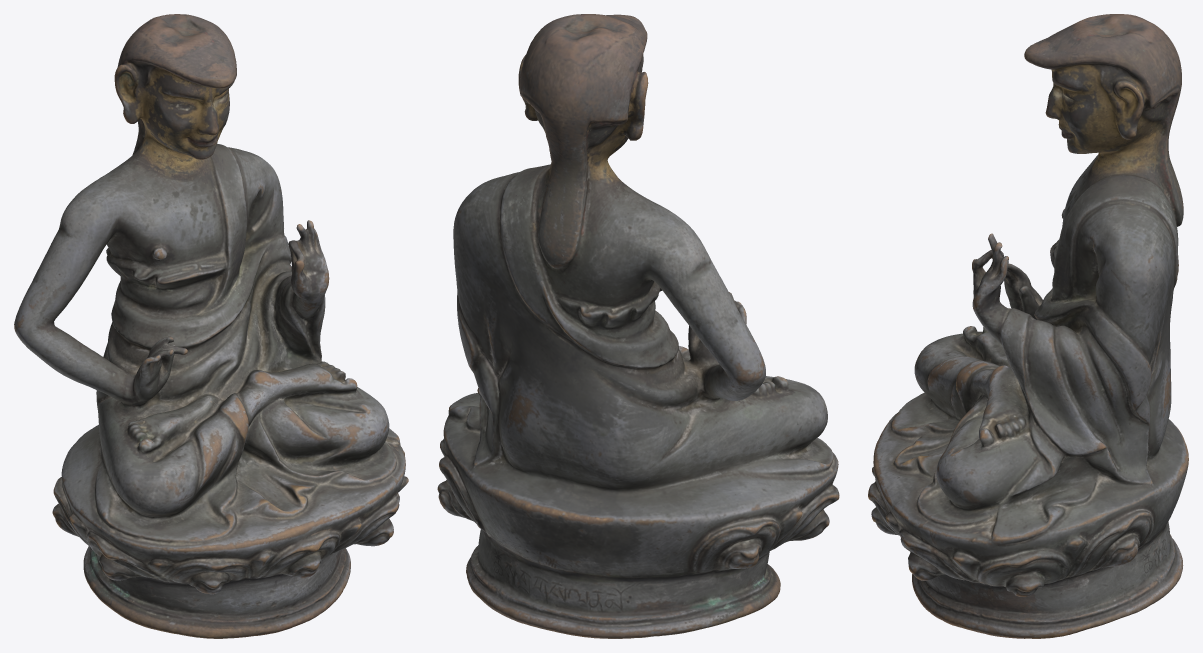
The model's file is statue.glb.
3 renders of one model, left to right at view 1: azimuth 30°, elevation 25°; view 2: azimuth 150°, elevation 25°; view 3: azimuth 270°, elevation 25°, orthographic. The views are drawn at different scales.
Visible parts, largest first — view 1: Object_2, Object_3; view 2: Object_2, Object_3; view 3: Object_2, Object_3.
Boxes of the visible parts, left/top/right/bottom form: Object_2: left=14, top=14, right=408, bottom=638; Object_3: left=99, top=166, right=405, bottom=457; Object_2: left=437, top=14, right=839, bottom=638; Object_3: left=439, top=191, right=681, bottom=502; Object_2: left=868, top=14, right=1188, bottom=638; Object_3: left=960, top=179, right=1183, bottom=547.
Size of the model in its own units: 0.0807 by 0.1268 by 0.0654.
1 material, 1 textured.
